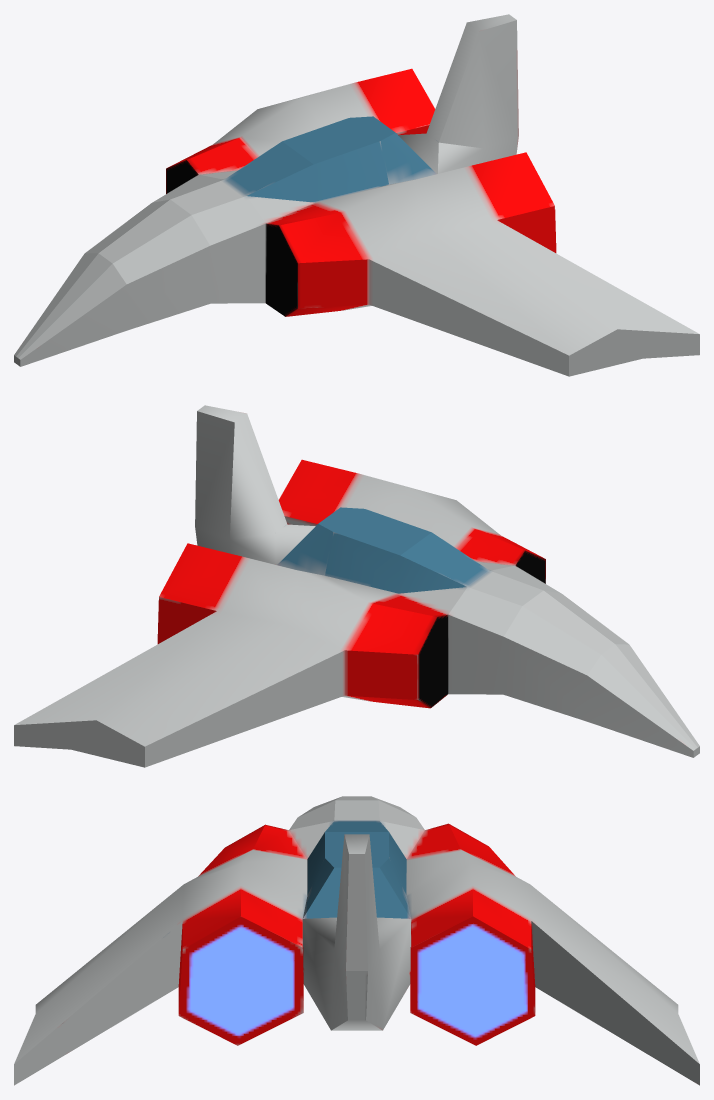
File: ship.glb
The picture shows the model from 3 angles, top to bottom: view 1: azimuth 30°, elevation 25°; view 2: azimuth 150°, elevation 25°; view 3: azimuth 270°, elevation 25°; orthographic projection.
Visible parts, largest first — view 1: ship; view 2: ship; view 3: ship.
Part boxes in pixels (box(x1,y1,x2,y2)): ship: box(14, 14, 699, 376); ship: box(14, 405, 699, 767); ship: box(14, 796, 699, 1085).
Bounding box in the file's own units: 4.43 × 1.87 × 5.04.
1 material, 1 textured.
